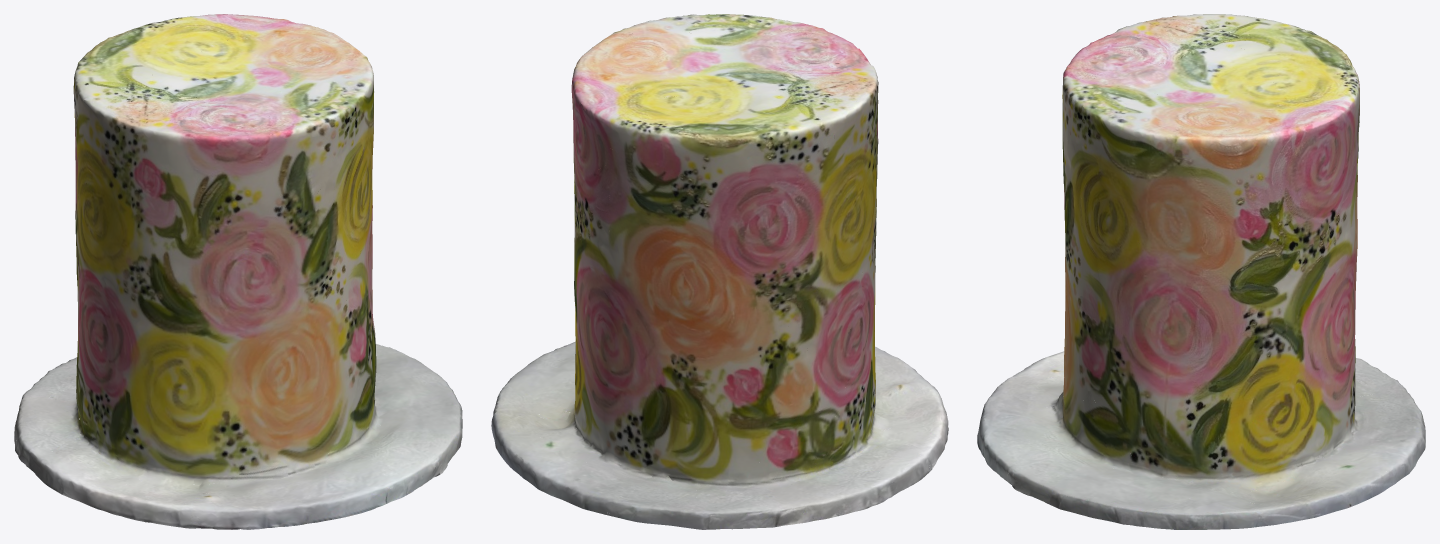
The model's file is flower-flat-25.glb.
The picture shows the model from 3 angles, left to right: view 1: azimuth 30°, elevation 25°; view 2: azimuth 150°, elevation 25°; view 3: azimuth 270°, elevation 25°; orthographic projection.
Parts seen in each view (by area): view 1: mesh.001; view 2: mesh.001; view 3: mesh.001.
Boxes of the visible parts, x1,y1,x2,y2 form: mesh.001: (14, 14, 462, 529); mesh.001: (491, 14, 948, 529); mesh.001: (977, 14, 1425, 529).
Size of the model in its own units: 0.2562 by 0.2272 by 0.2561.
1 material, 1 textured.
